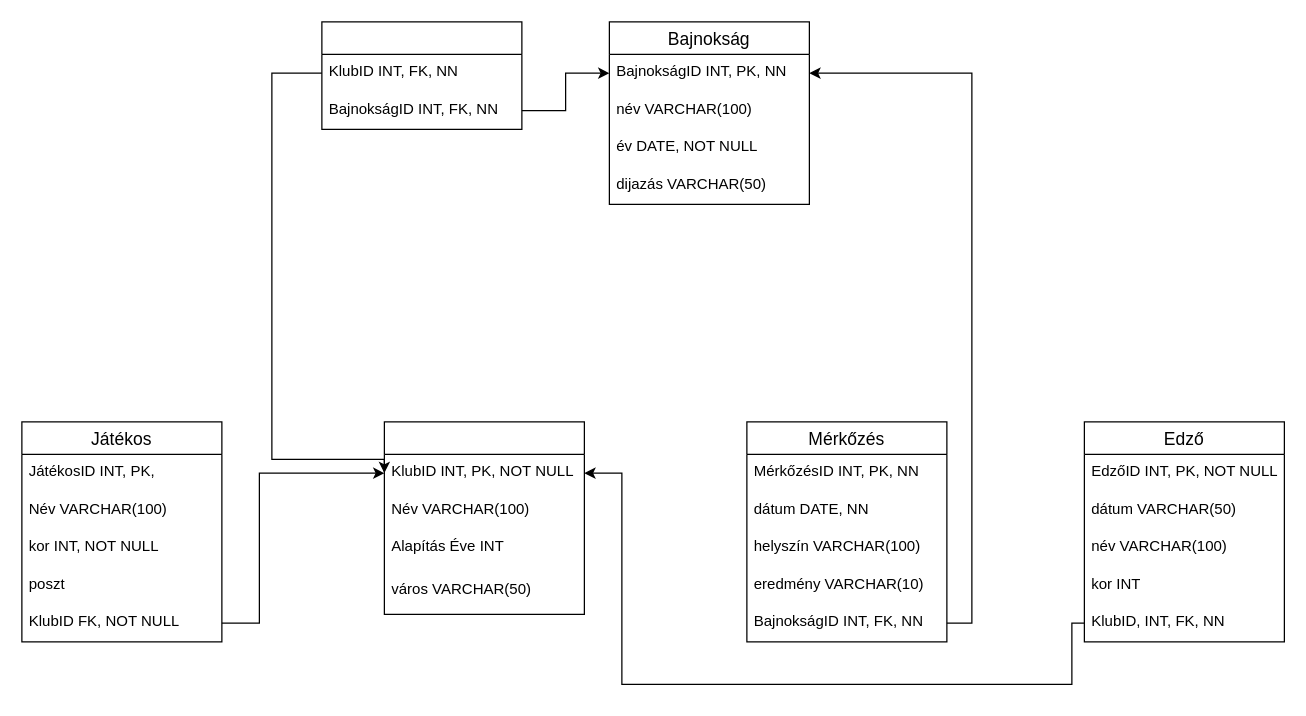
This 1306x716 diagram has some shape labels left out. Each missing label, with the box of its shape:
Futballklub: (383, 421, 584, 614)
Részvétel: (321, 21, 522, 129)
